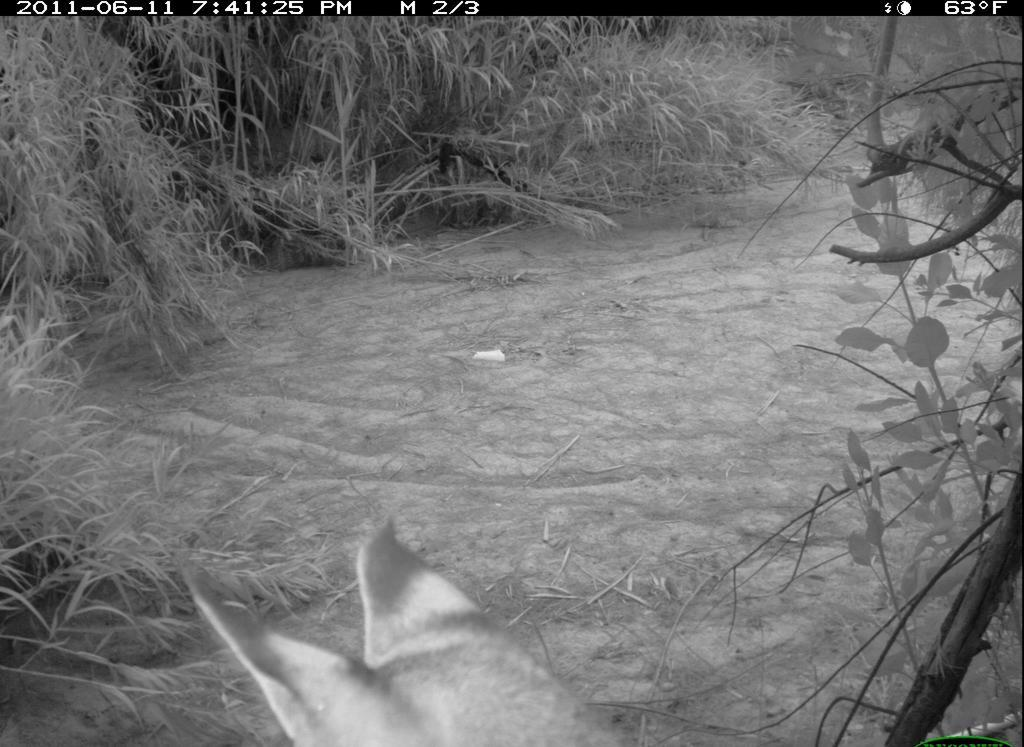bobcat: (177, 514, 641, 747)
